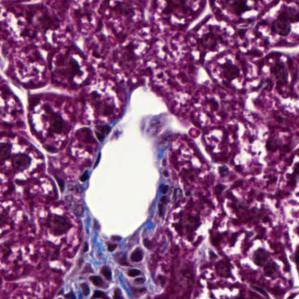inflammation: (26, 93, 74, 152), (187, 13, 237, 64), (171, 197, 212, 242)
